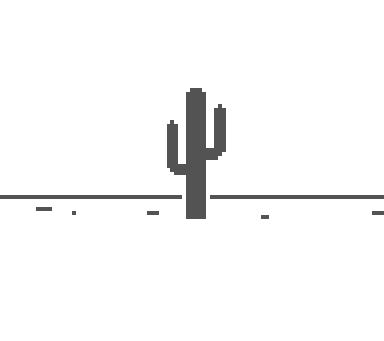t-rex: (164, 85, 229, 225)
